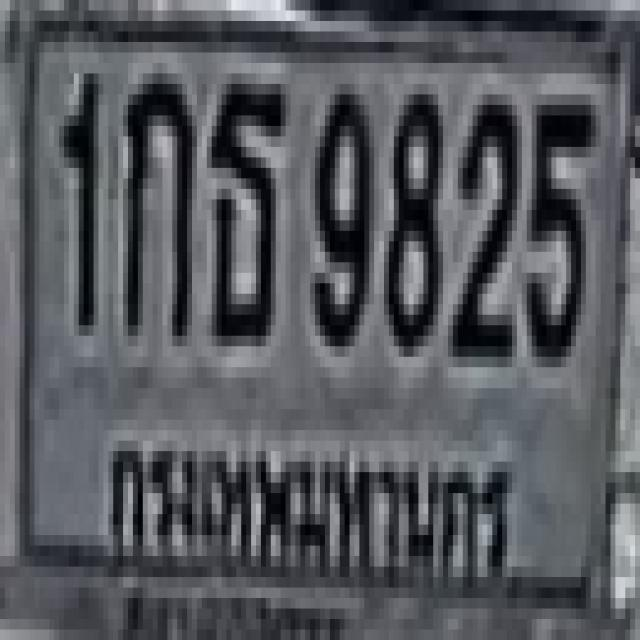1: (59, 63, 94, 325)
2: (450, 89, 514, 352)
5: (522, 94, 591, 357)
8: (384, 84, 438, 346)
9: (310, 84, 369, 336)
A01: (123, 68, 187, 331)
A24: (207, 73, 280, 336)
BKK: (96, 417, 522, 610)
